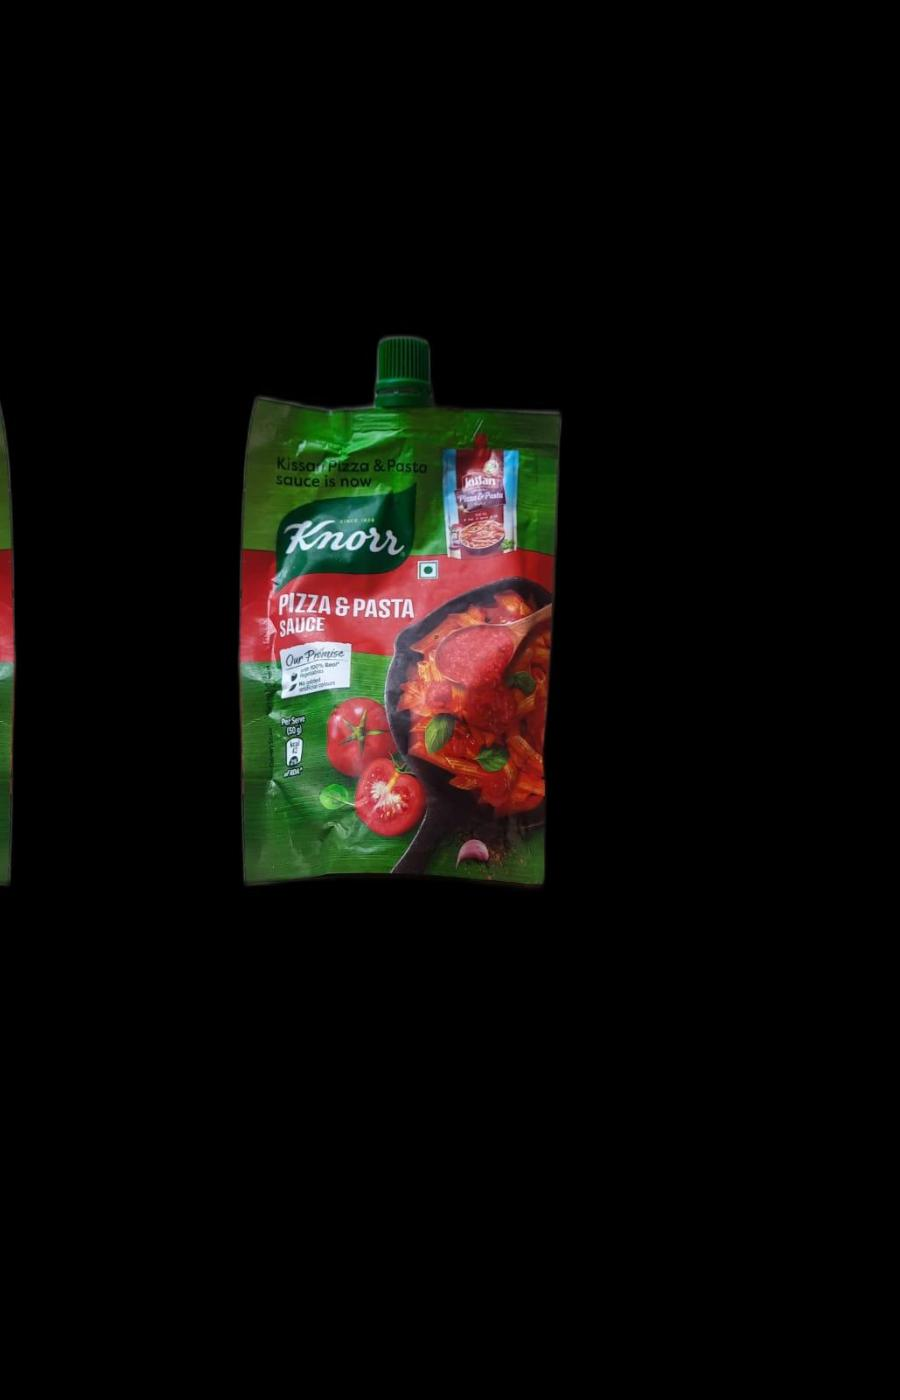Knorr Pizza Pasta Sauce: (237, 321, 553, 891)
